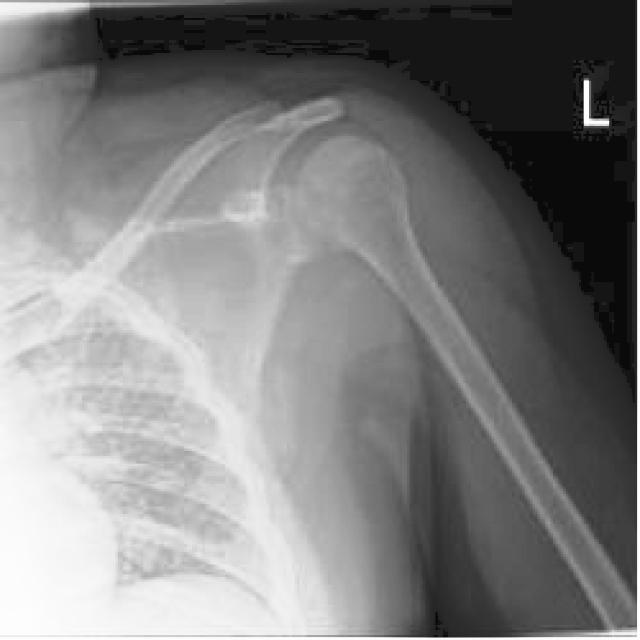Avlusion Fracture: (265, 90, 353, 137)
